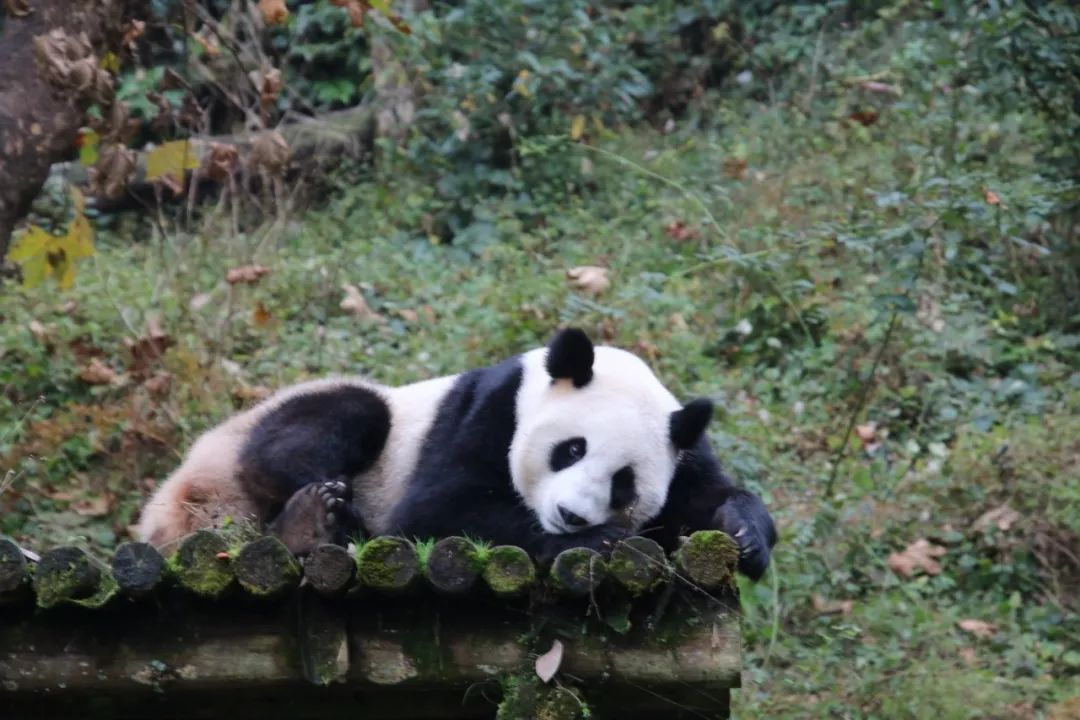panda: (139, 325, 760, 552)
